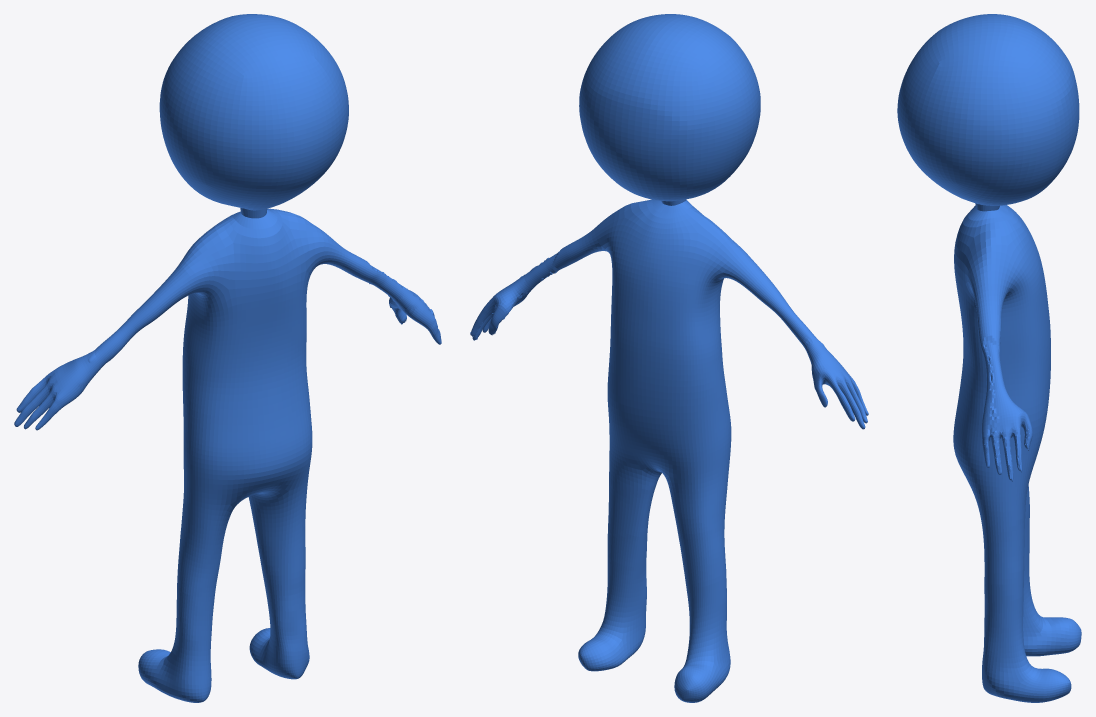
The model's file is human.fbx.
3 renders of one model, left to right at view 1: azimuth 30°, elevation 25°; view 2: azimuth 150°, elevation 25°; view 3: azimuth 270°, elevation 25°, orthographic. The views are drawn at different scales.
Parts seen in each view (by area): view 1: stickman; view 2: stickman; view 3: stickman.
Part boxes in pixels (x1,y1,x2,y2): stickman: (14,14,441,702); stickman: (470,14,868,702); stickman: (897,14,1081,702).
Bounding box in the file's own units: 5866 × 9006 × 2289.
